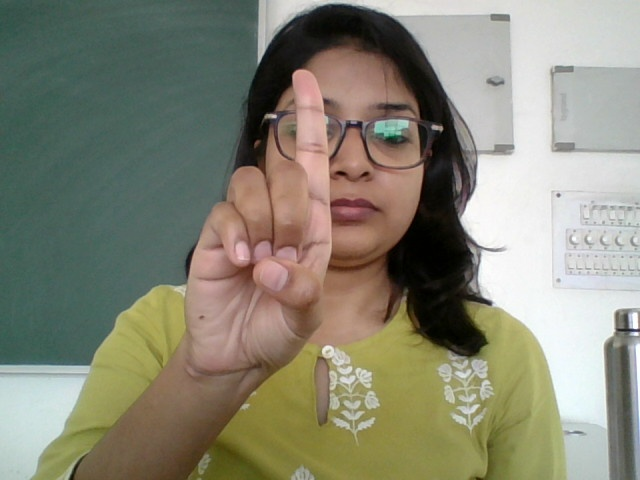D: (175, 65, 342, 382)
